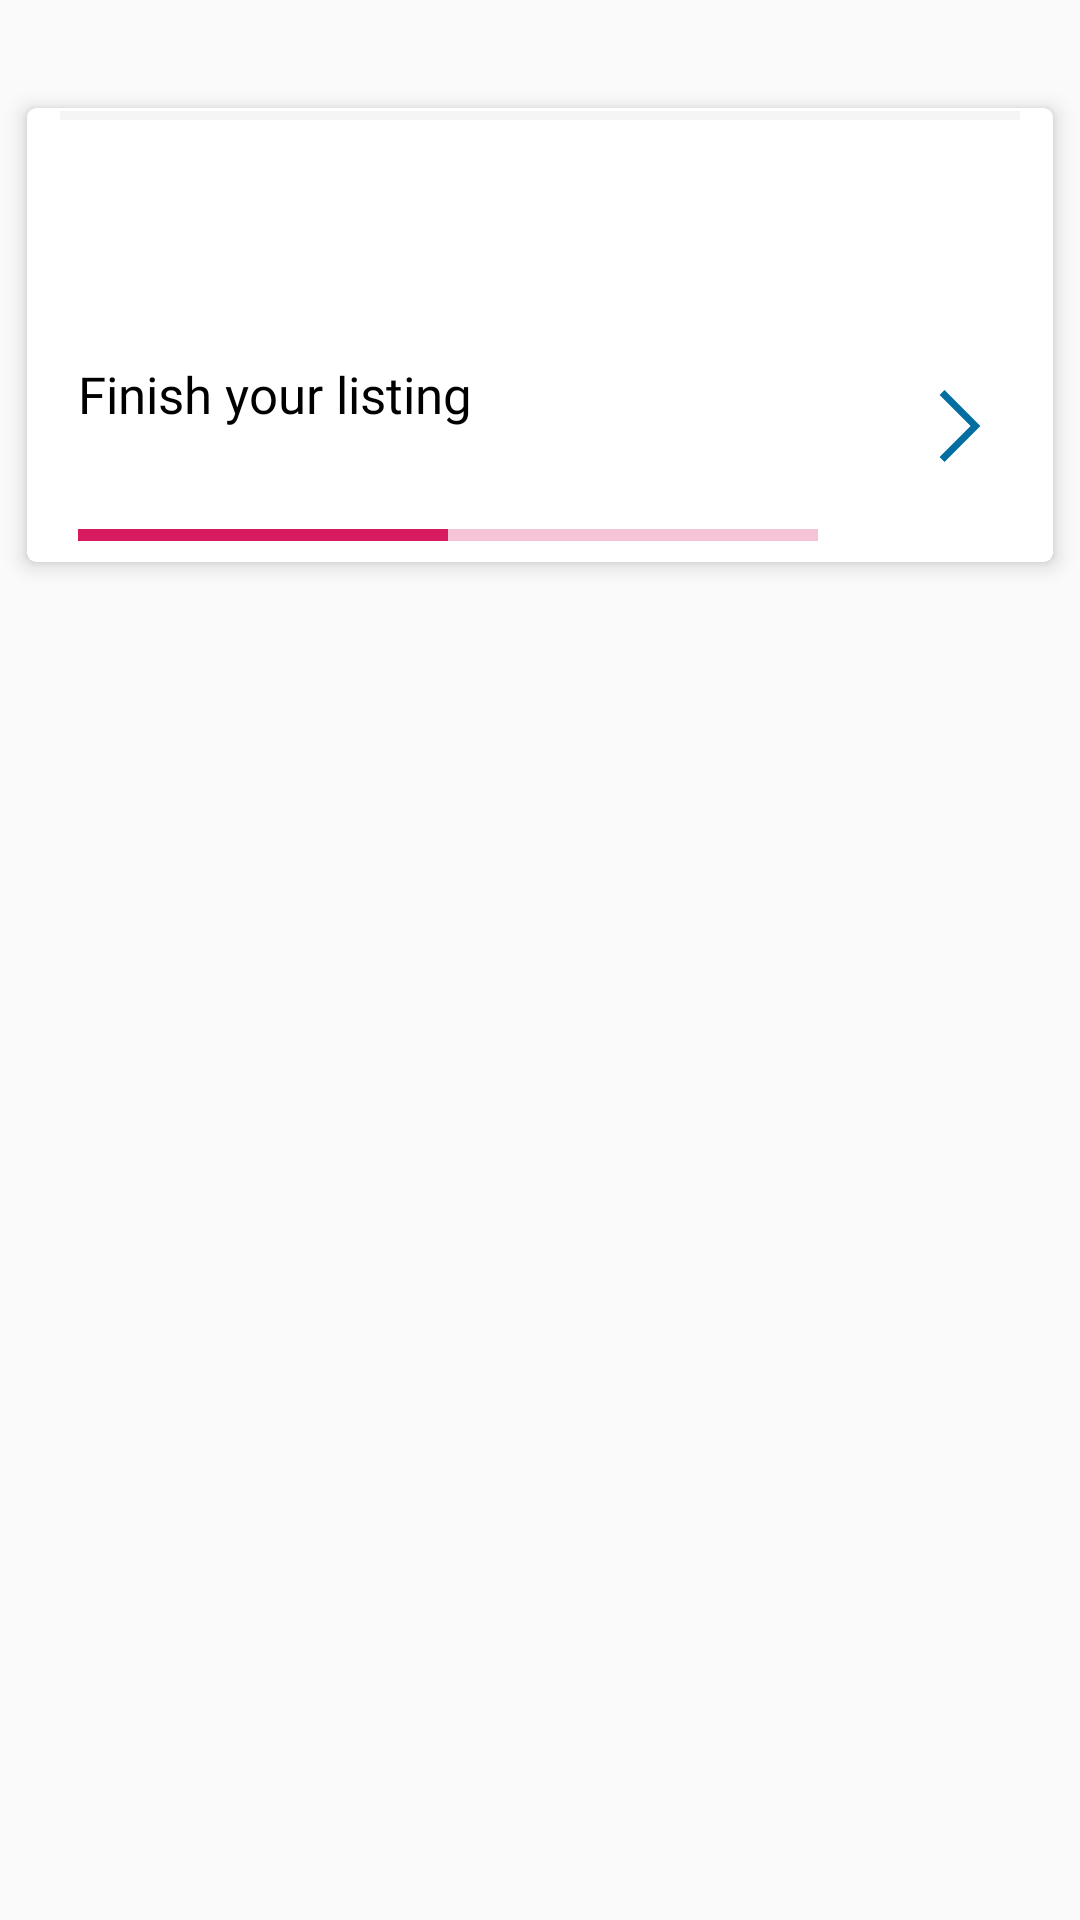

Screen size 1080 x 1920. Icon name, then its center in pixels as (x,y):
nextt: (960,426)
